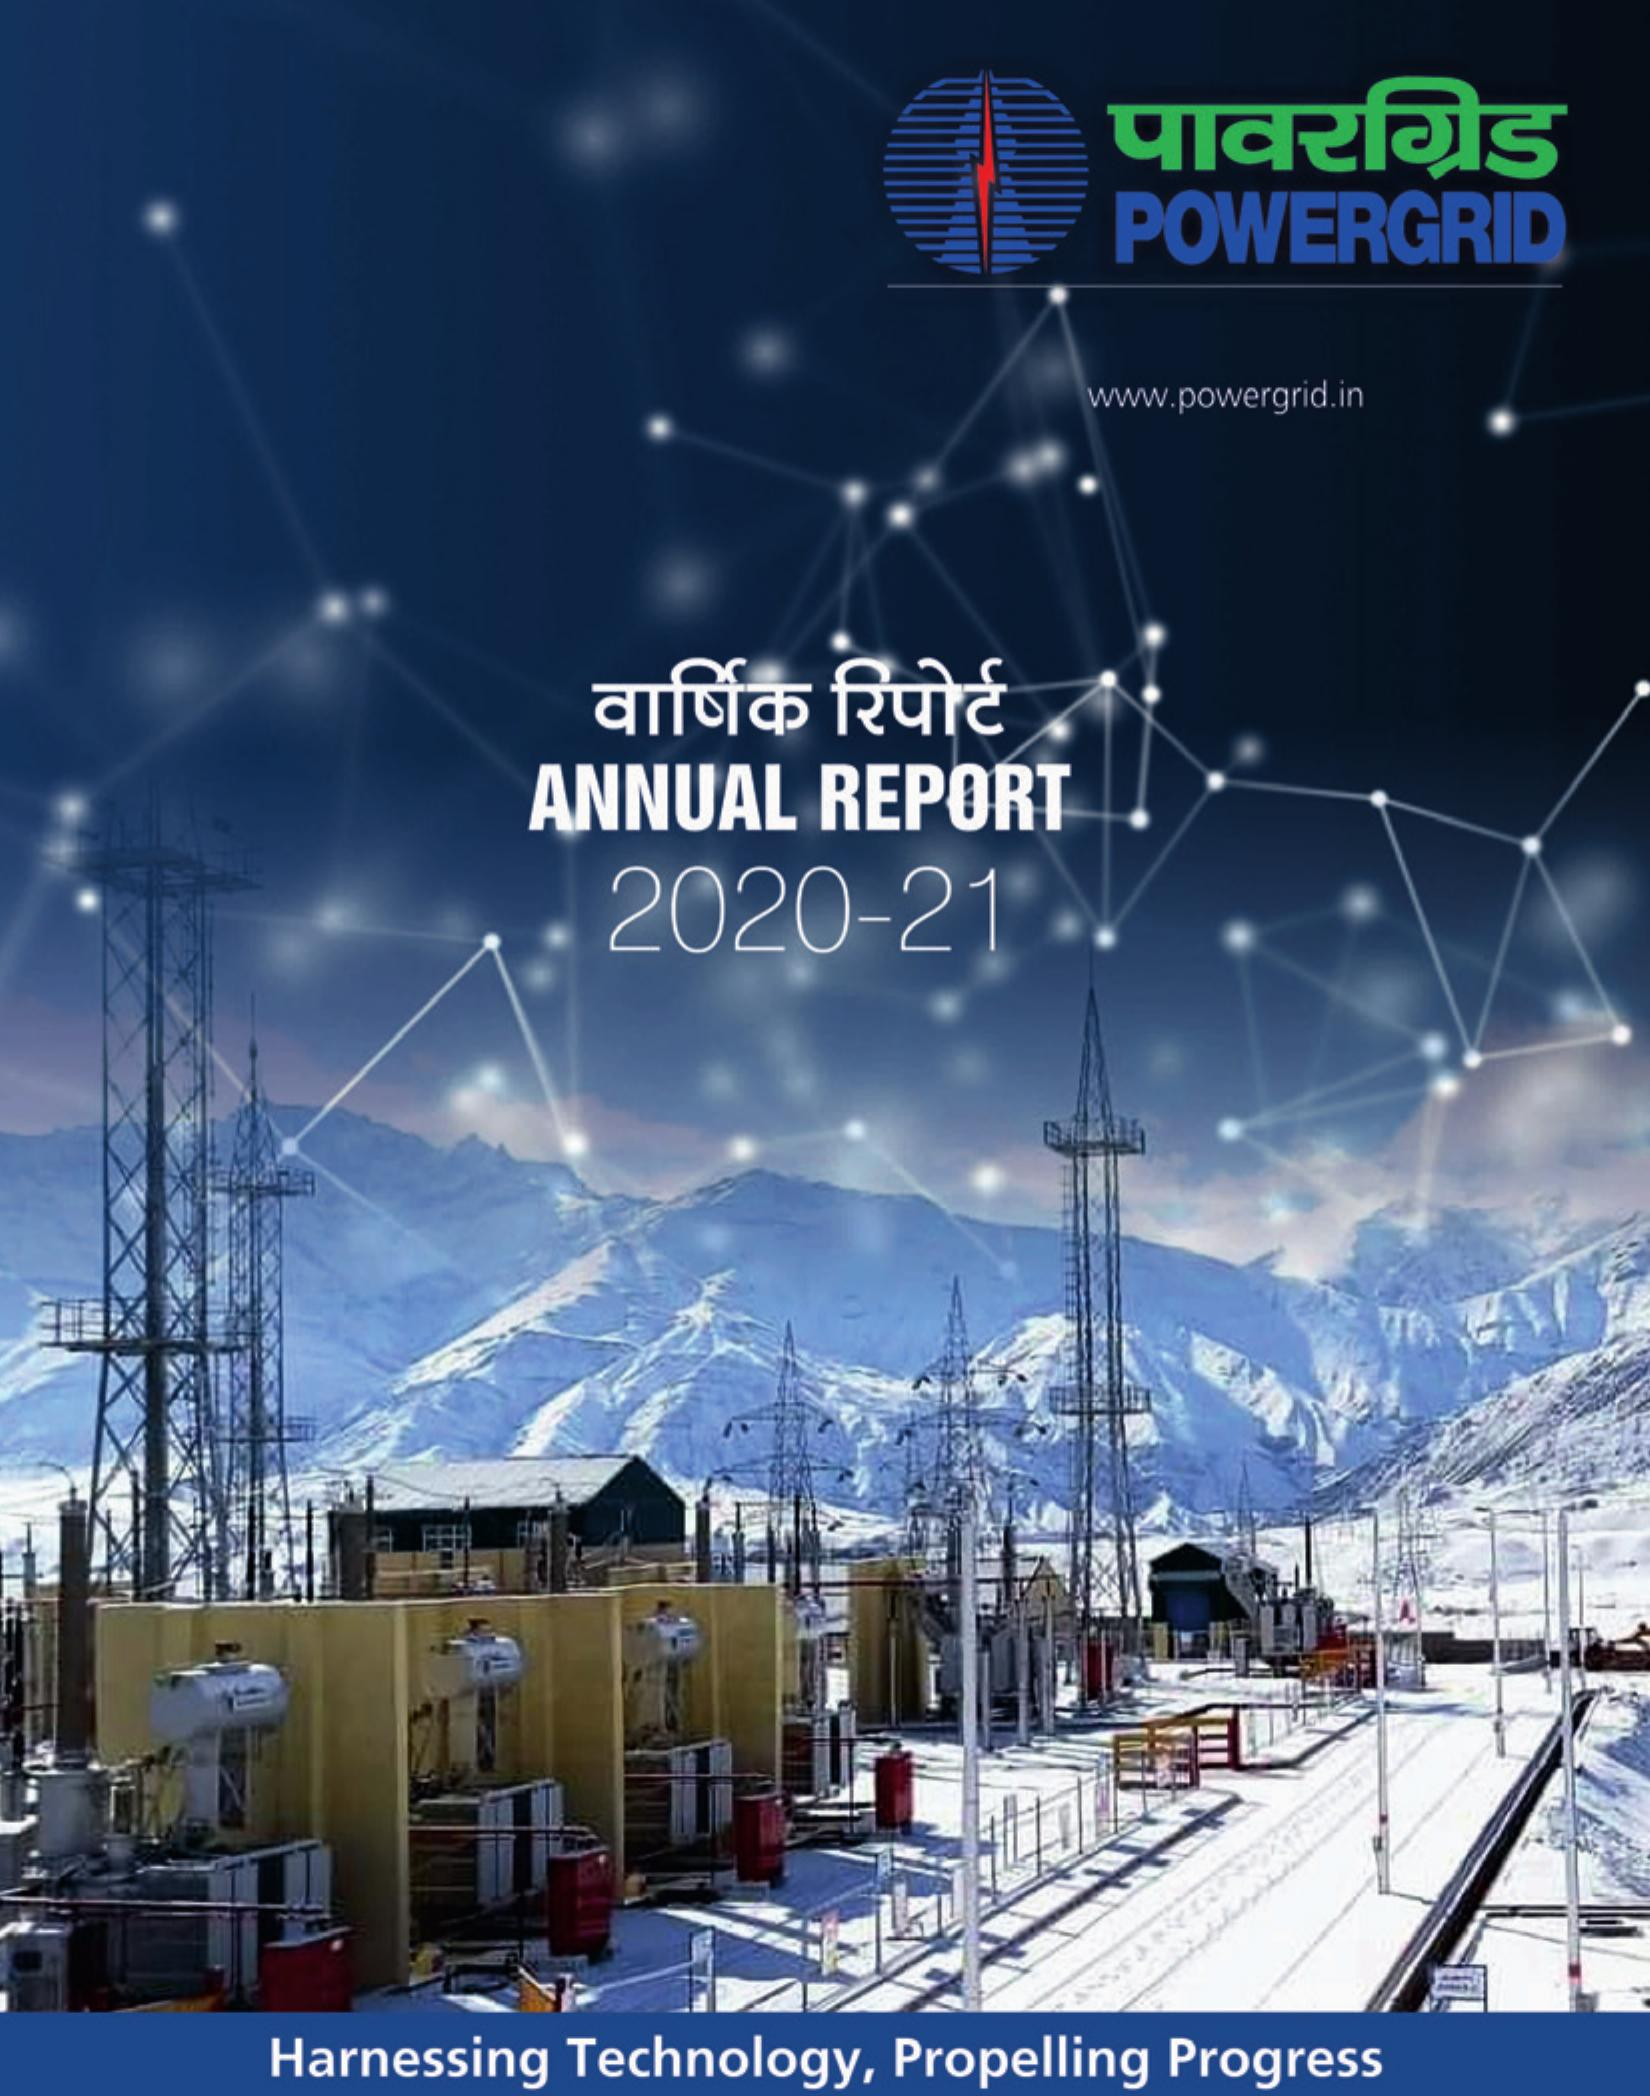Image: (0, 0, 1650, 2096)
